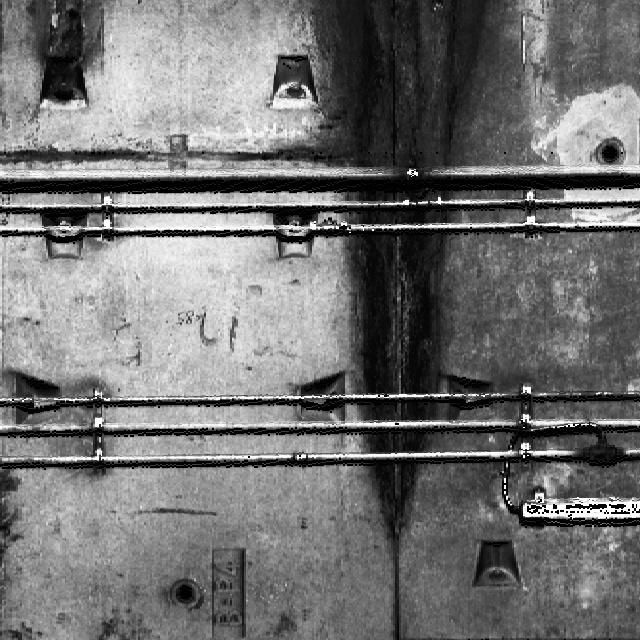leakage: (298, 0, 506, 552), (24, 0, 110, 63)
